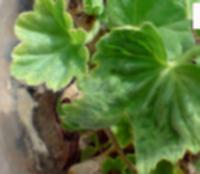Tomato leaf mosaic virus: (54, 24, 200, 174), (8, 1, 95, 90)
